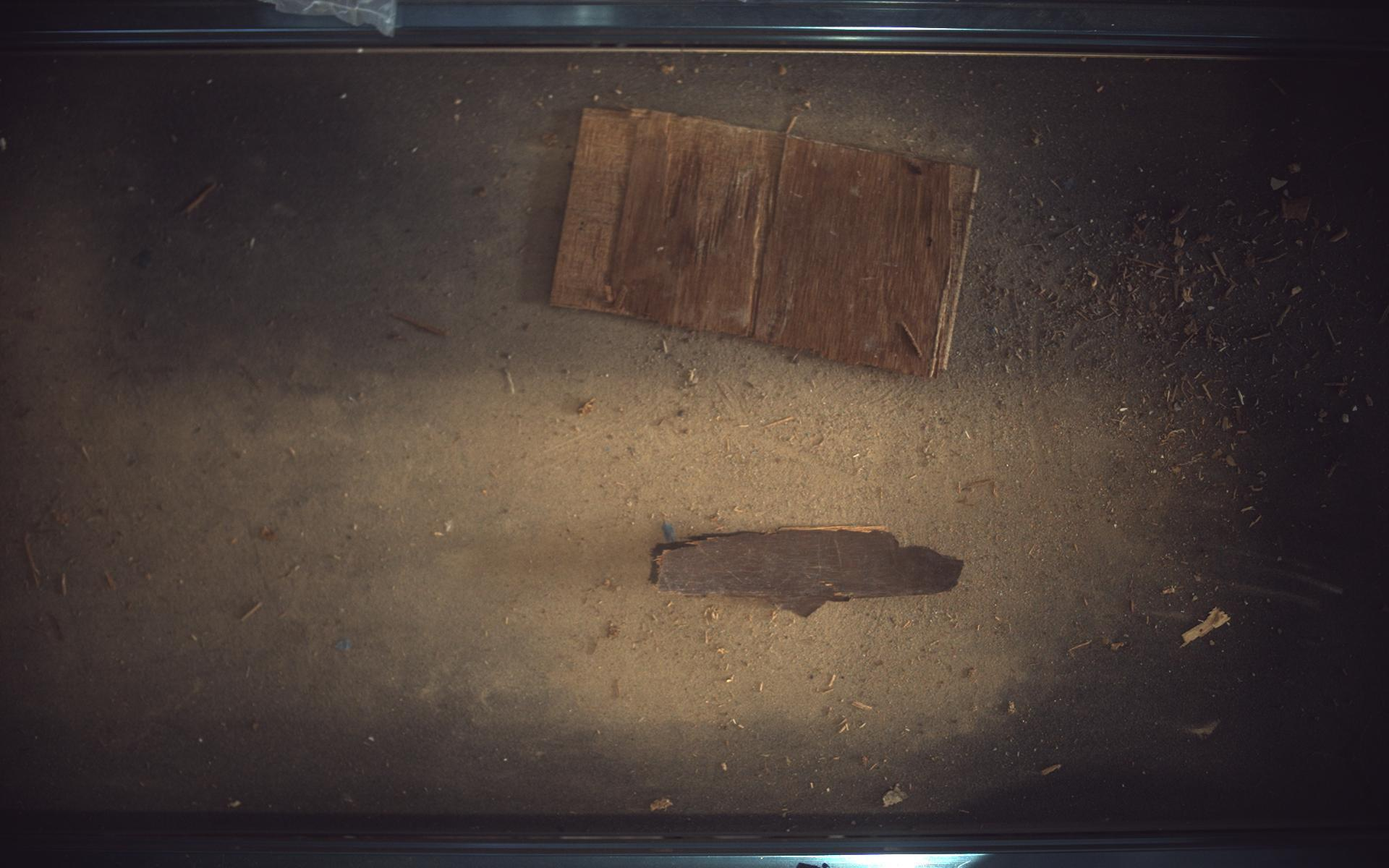wood: (551, 107, 980, 376), (652, 527, 966, 617)
